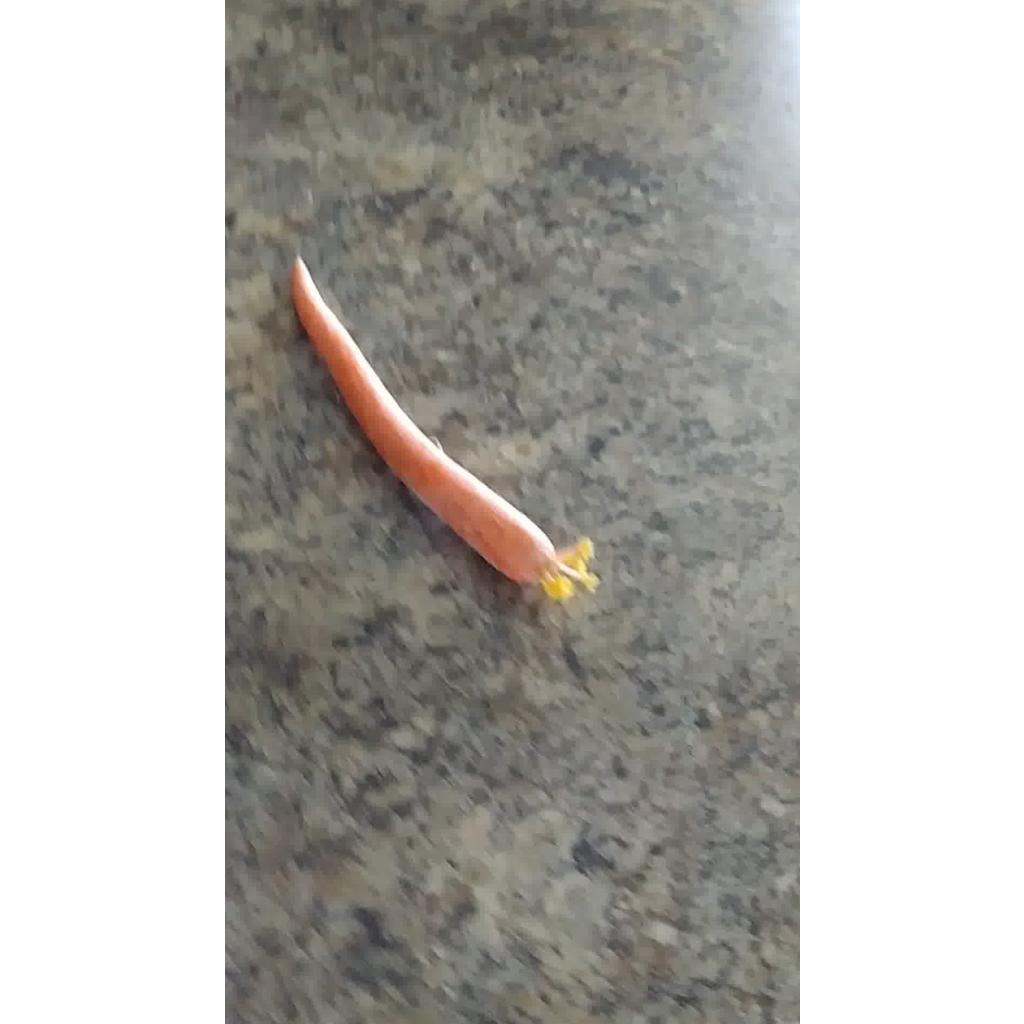carrot: (292, 258, 598, 601)
